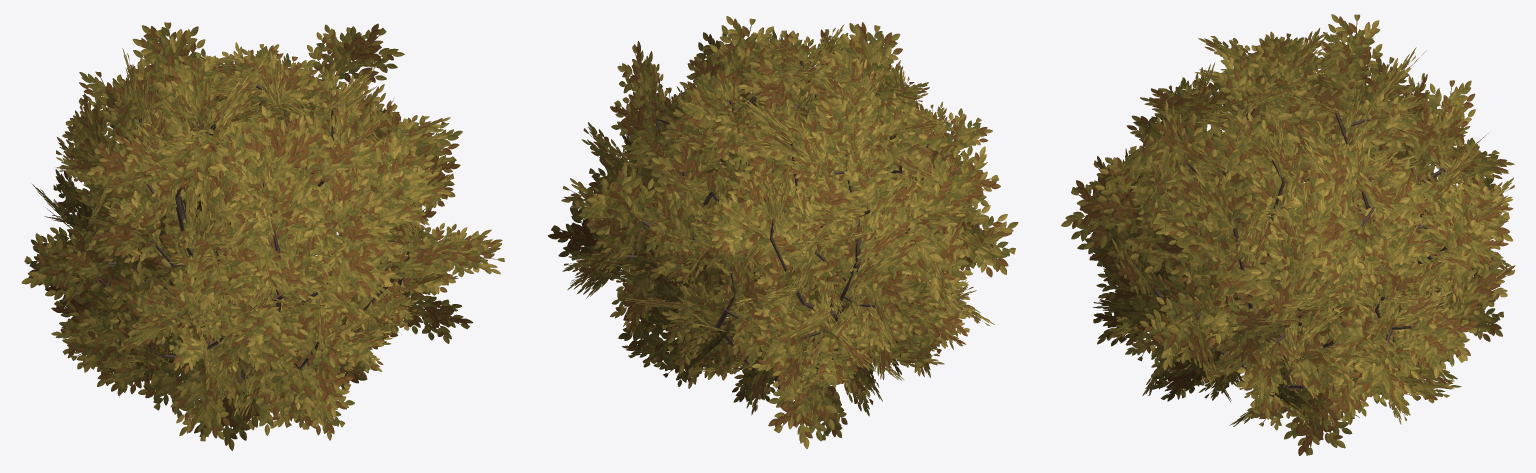
The model's file is bush_dry_01.glb.
3 views of the same model, side by side, from view 1: azimuth 30°, elevation 25°; view 2: azimuth 150°, elevation 25°; view 3: azimuth 270°, elevation 25° (orthographic). The views are drawn at different scales.
Visible parts, largest first — view 1: bush_dry_01; view 2: bush_dry_01; view 3: bush_dry_01.
Boxes of the visible parts, bbox=[...] form: bush_dry_01: bbox=[21, 22, 504, 450]; bush_dry_01: bbox=[548, 16, 1018, 448]; bush_dry_01: bbox=[1061, 14, 1515, 455].
Bounding box in the file's own units: 2.47 × 2.09 × 2.36.
Materials: 2 (2 with a texture image).
